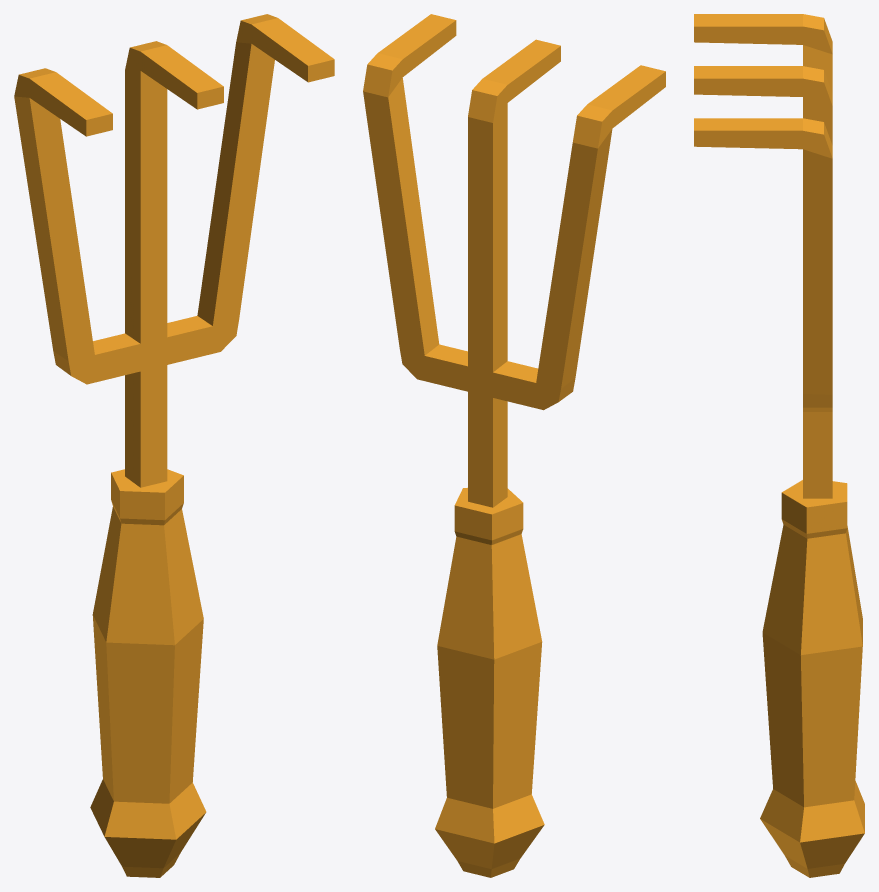
The model's file is SM_Rake_Gardening.fbx.
The picture shows the model from 3 angles, left to right: view 1: azimuth 30°, elevation 25°; view 2: azimuth 150°, elevation 25°; view 3: azimuth 270°, elevation 25°; orthographic projection. The views are drawn at different scales.
Visible parts, largest first — view 1: rake-gardening; view 2: rake-gardening; view 3: rake-gardening.
Boxes of the visible parts, x1=… form: rake-gardening: x1=14, y1=14, x2=334, y2=877; rake-gardening: x1=363, y1=14, x2=665, y2=877; rake-gardening: x1=694, y1=14, x2=864, y2=877.
Size of the model in its own units: 0.1053 by 0.334 by 0.0651.
